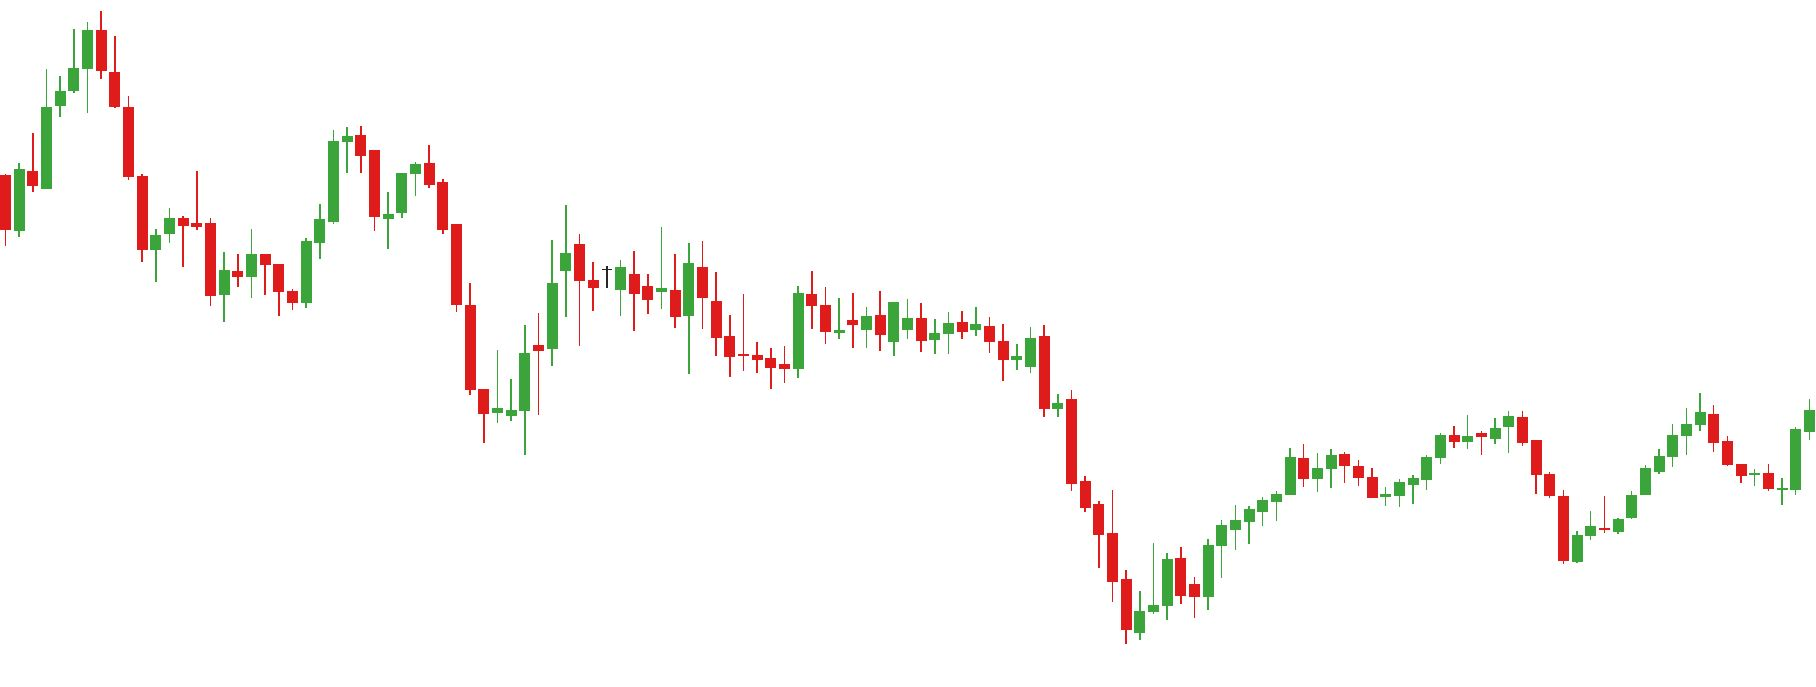sell: (192, 127, 366, 255)
